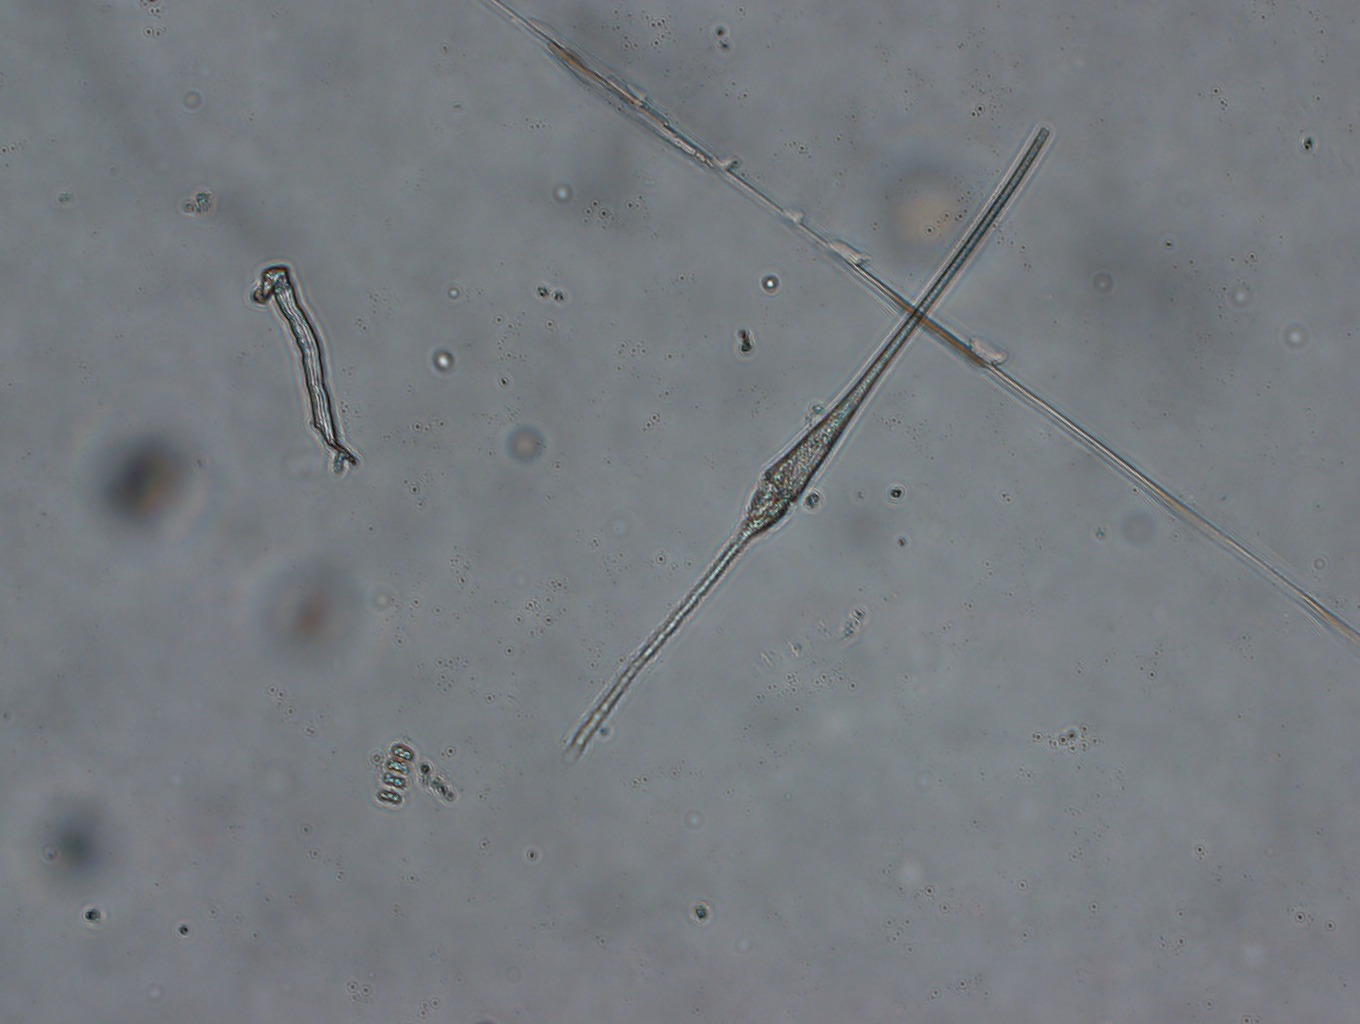ceratium fusus: (560, 119, 1049, 766)
